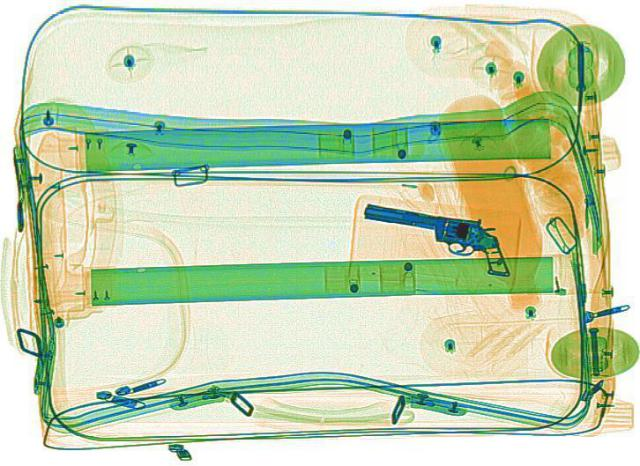Gun: (346, 201, 528, 275)
